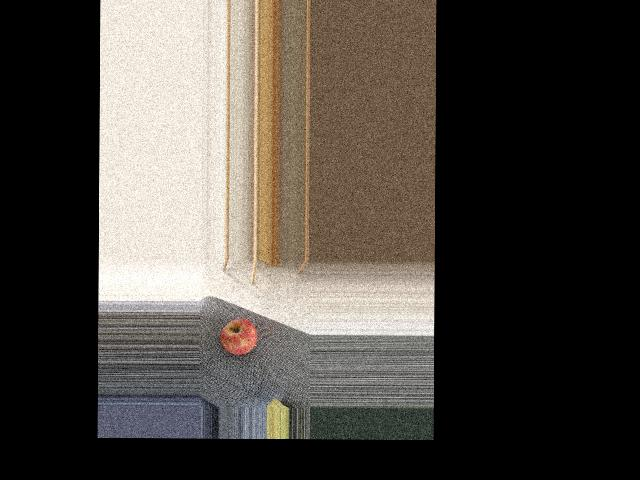apple: (217, 316, 258, 358)
